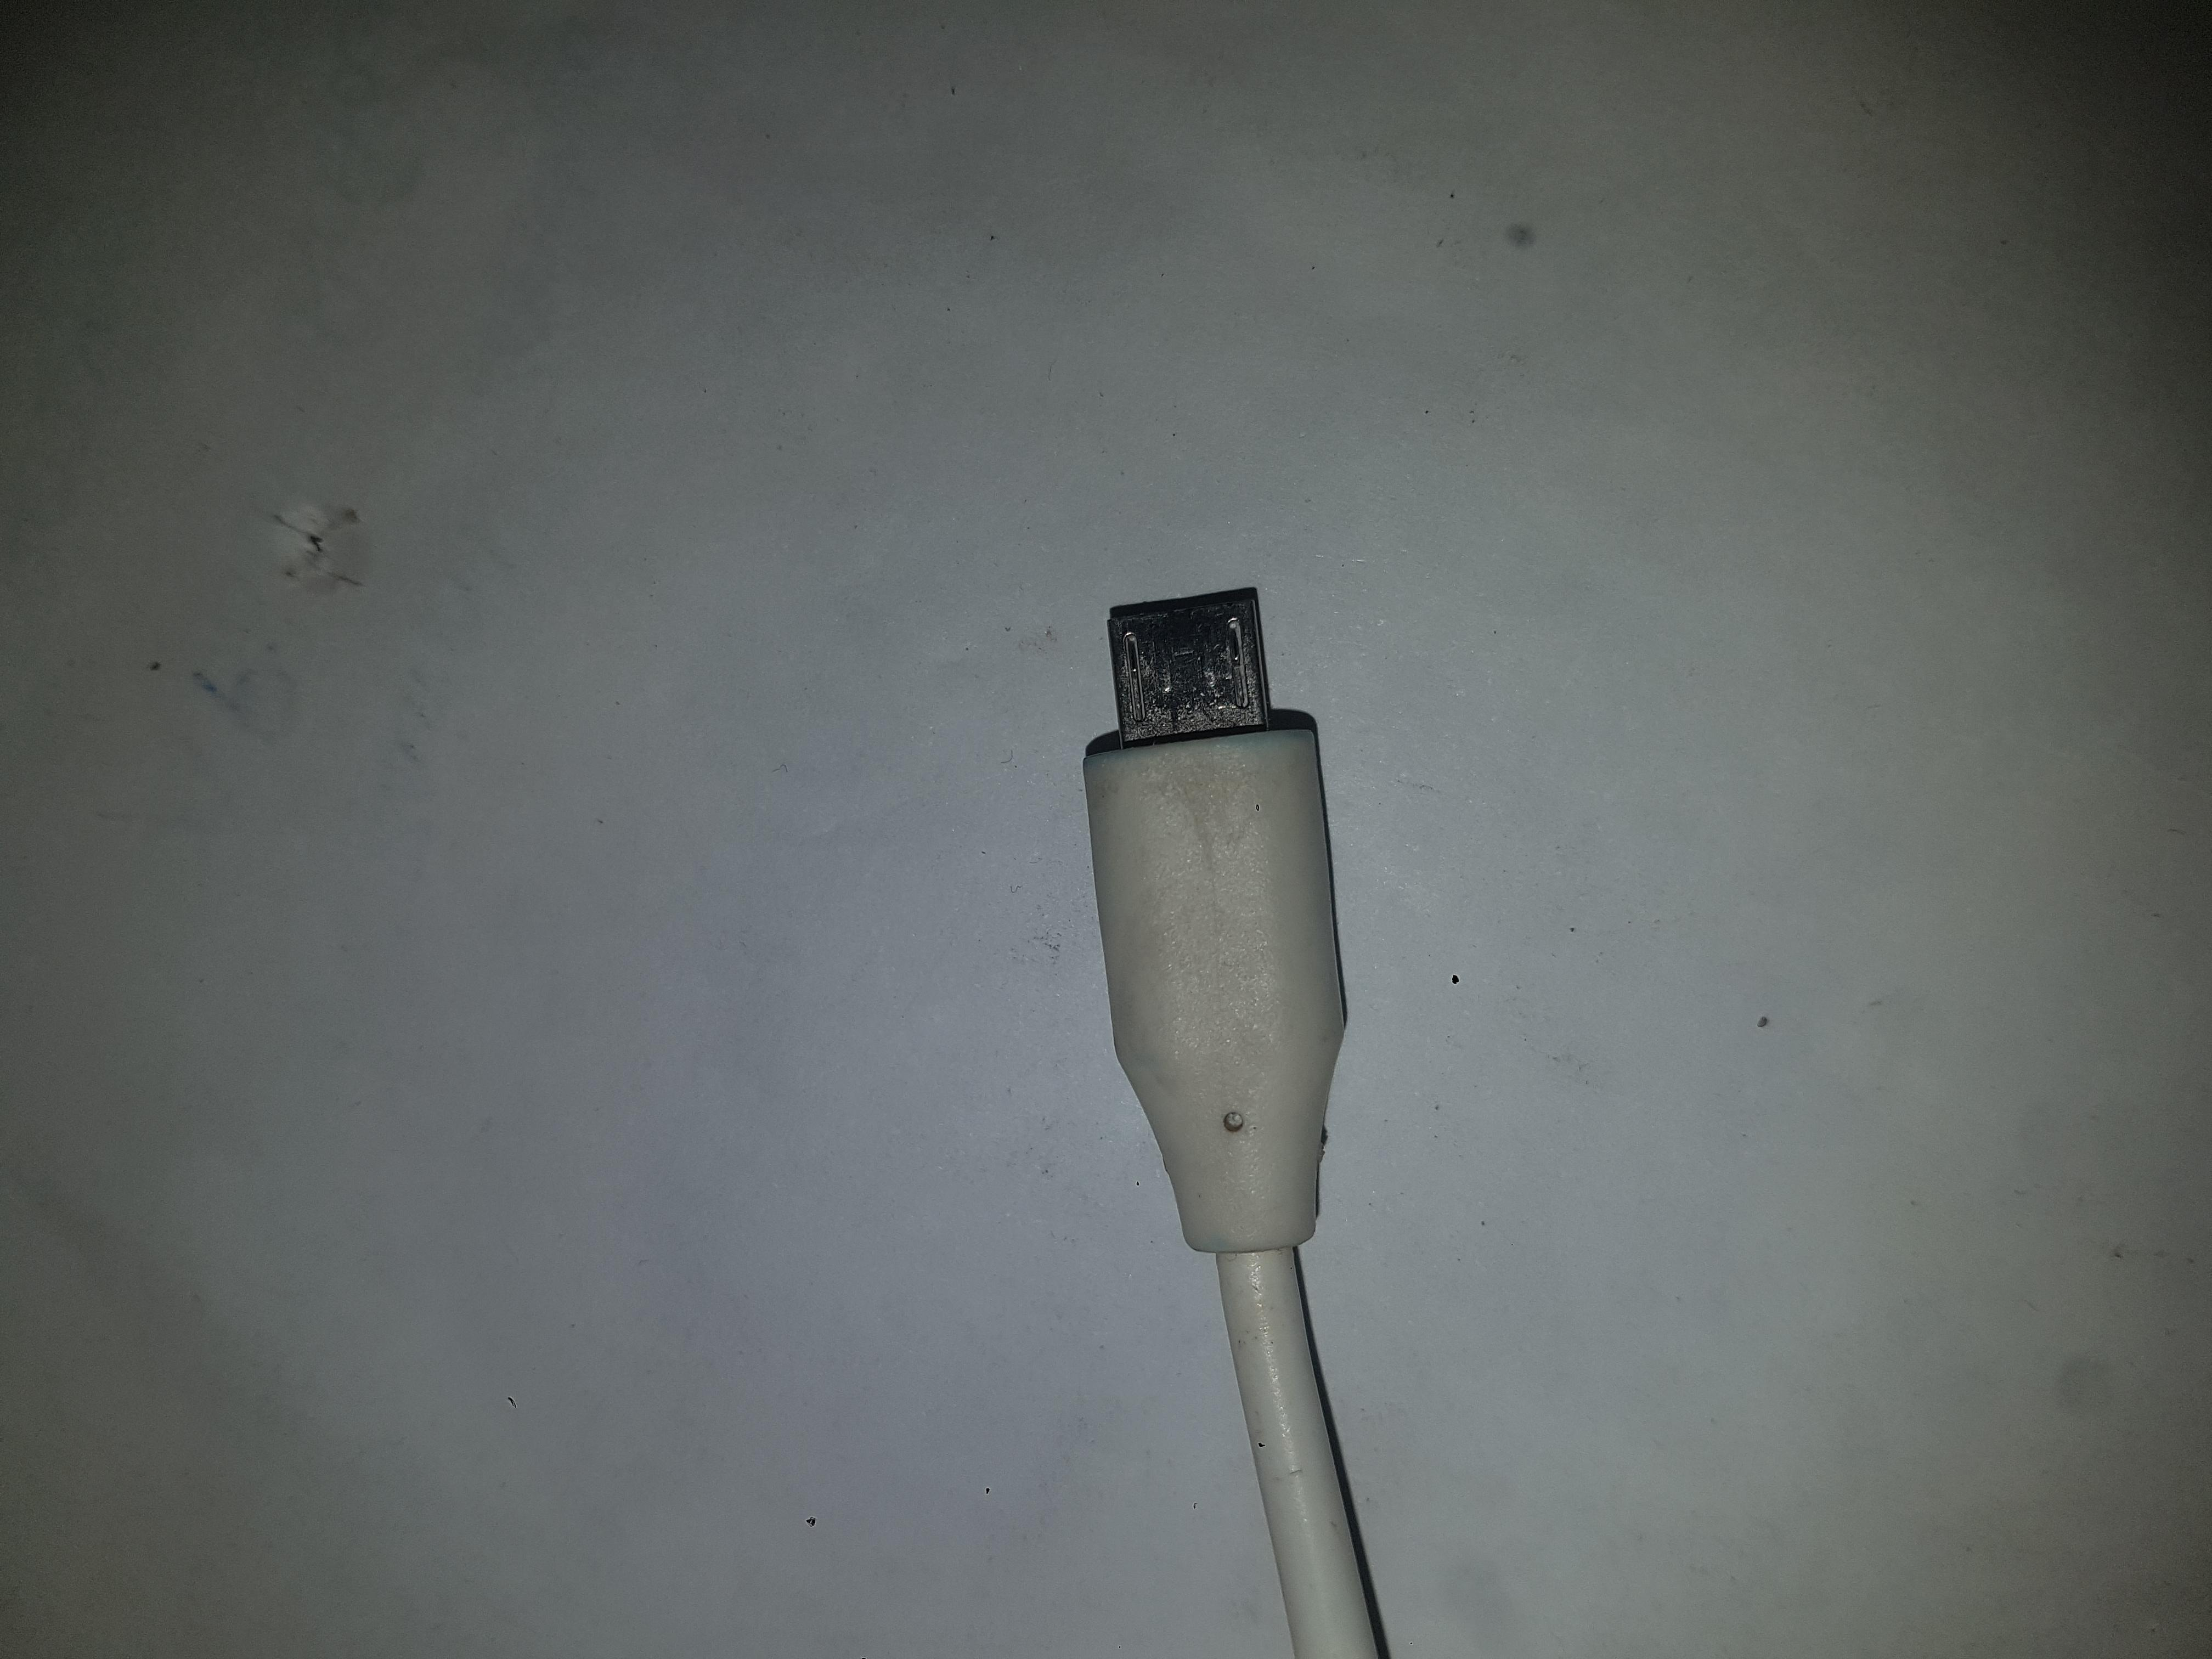electronic: (794, 0, 1139, 967)
